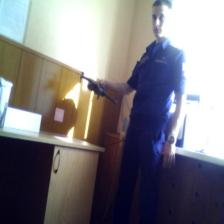drone: (77, 66, 121, 108)
